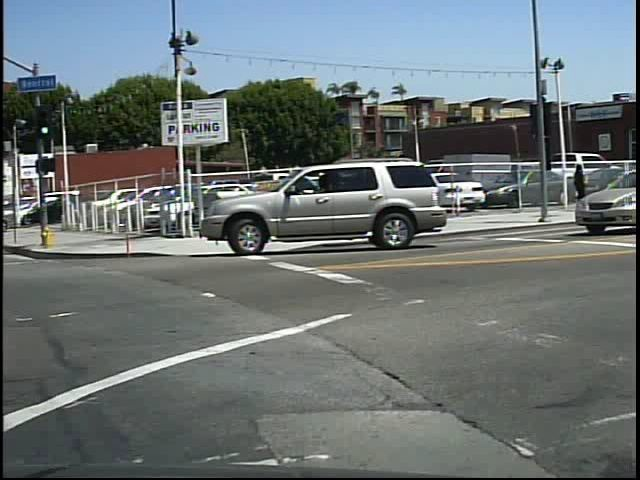person: (573, 163, 596, 215)
